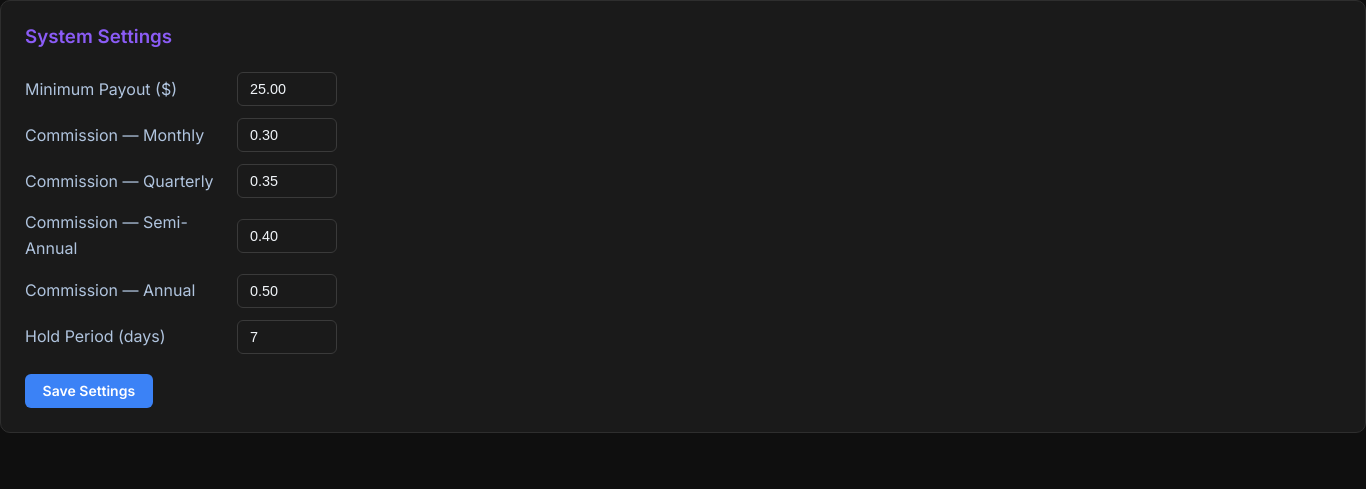
Test: SettingsTab › shows success message after save
Check: the heading "System Settings" is shown, box [25,25,172,48]
Click the button "Save Settings".
click(89, 391)  # box [25,374,153,408]
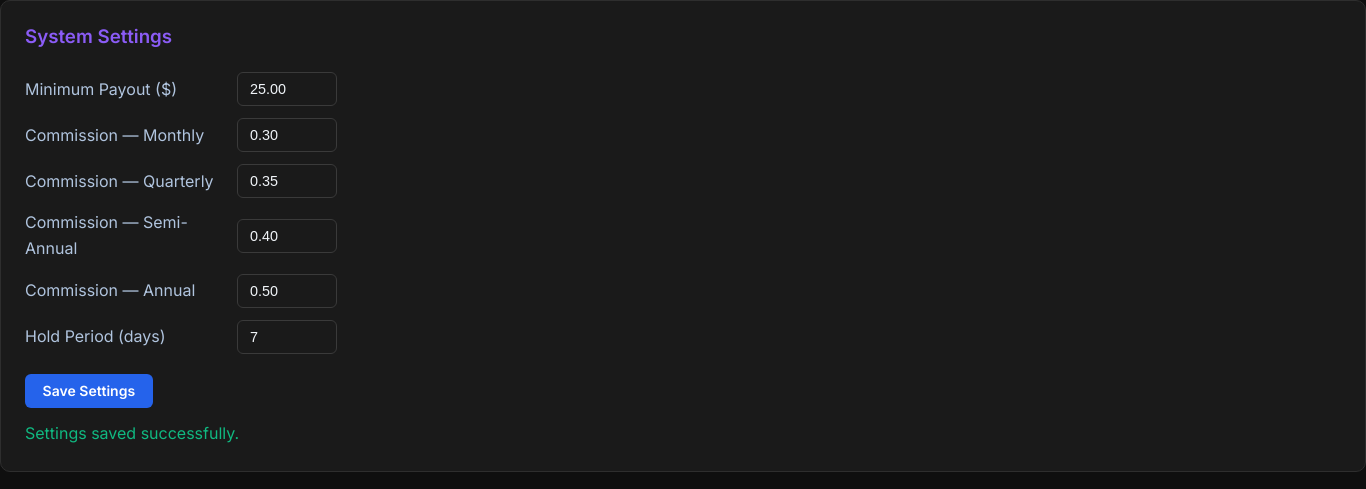
Check: the text "Settings saved successfully." is shown, box [25,423,239,443]
